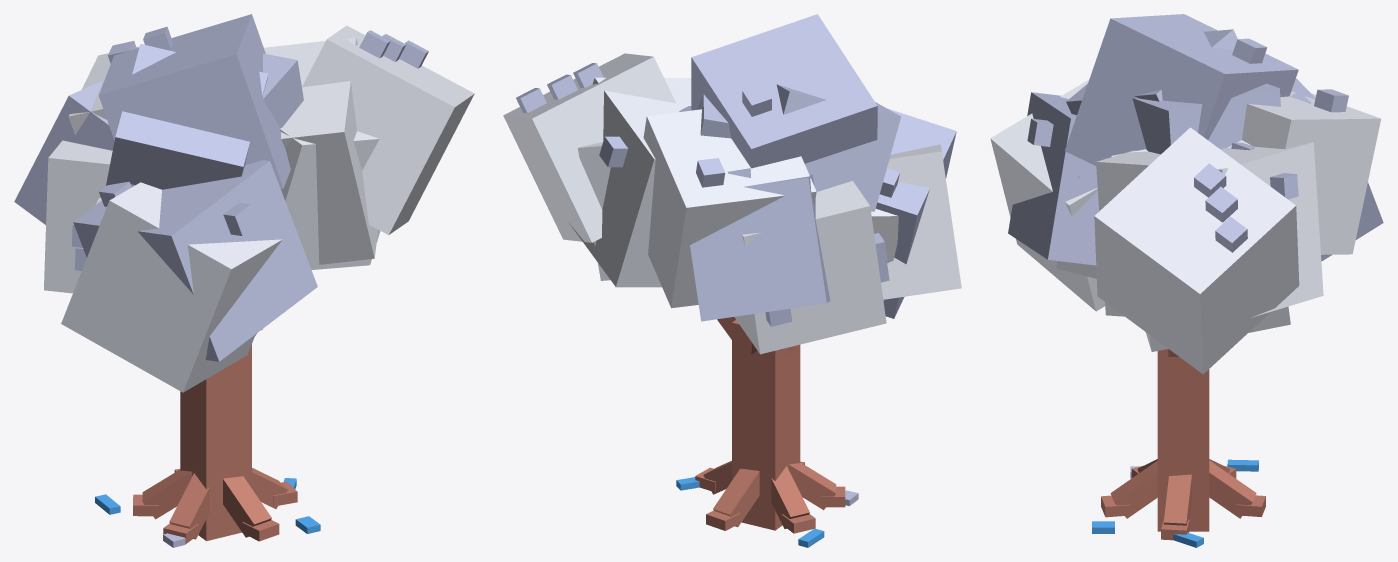
The model's file is FrostTree.fbx.
The picture shows the model from 3 angles, left to right: view 1: azimuth 30°, elevation 25°; view 2: azimuth 150°, elevation 25°; view 3: azimuth 270°, elevation 25°; orthographic projection. The views are drawn at different scales.
Parts seen in each view (by area): view 1: Snow.001, SnowShade.001, Wood.006, Ice; view 2: Snow.001, SnowShade.001, Wood.006, Ice; view 3: Snow.001, SnowShade.001, Wood.006, Ice.
Part boxes in pixels (x1,y1,x2,y2): Snow.001: (44, 25, 474, 392); SnowShade.001: (14, 14, 428, 547); Wood.006: (133, 333, 297, 543); Ice: (95, 478, 320, 533); Snow.001: (503, 53, 961, 354); SnowShade.001: (516, 14, 956, 506); Wood.006: (695, 317, 845, 533); Ice: (676, 477, 824, 547); Snow.001: (990, 79, 1380, 374); SnowShade.001: (1008, 14, 1383, 478); Wood.006: (1101, 349, 1265, 540); Ice: (1092, 459, 1258, 547).
Size of the model in its own units: 17.73 by 19.07 by 13.75.
